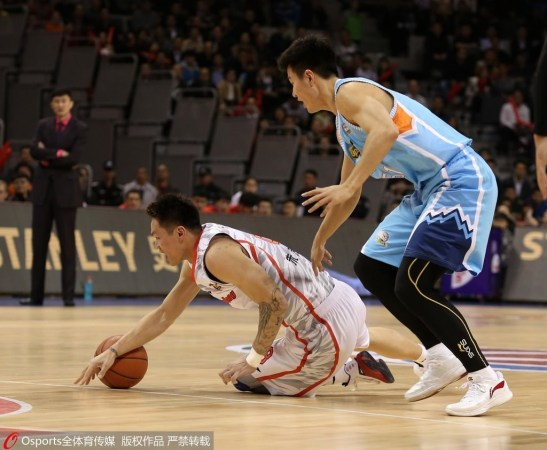10+: (1, 1, 547, 423)
down: (72, 180, 440, 429)
